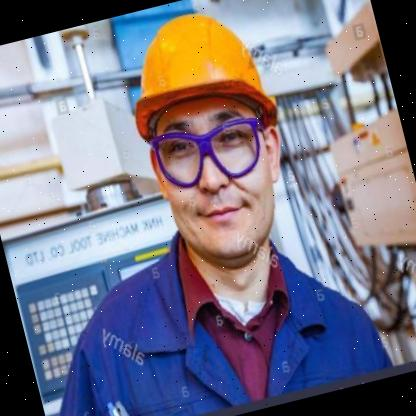capacete: (113, 0, 270, 129)
oculos: (131, 98, 292, 210)
